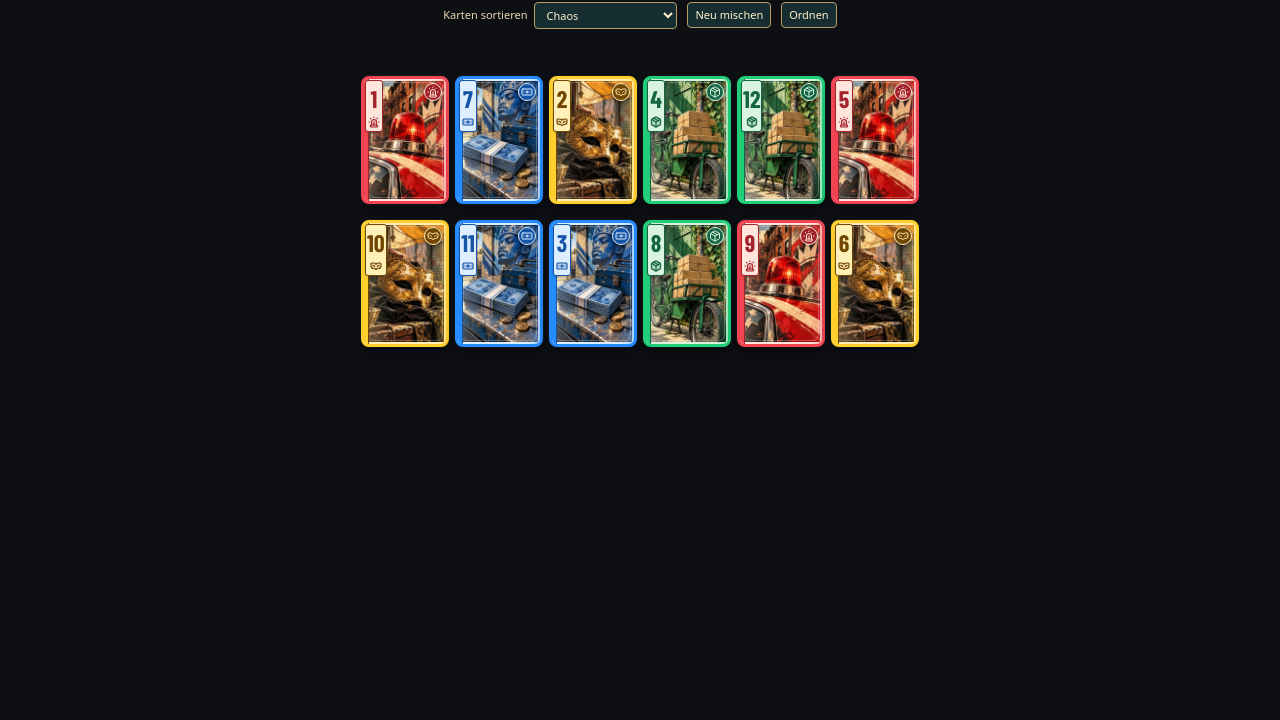
Test: played cards disappear cleanly, incoming cards append, and shuffle clears manual arrangement
What coordinates should you click on to do the following:
click the button with test id "hand-arrange-toggle"
I would click on:
 (809, 15)
Its box is [781,2,837,28].
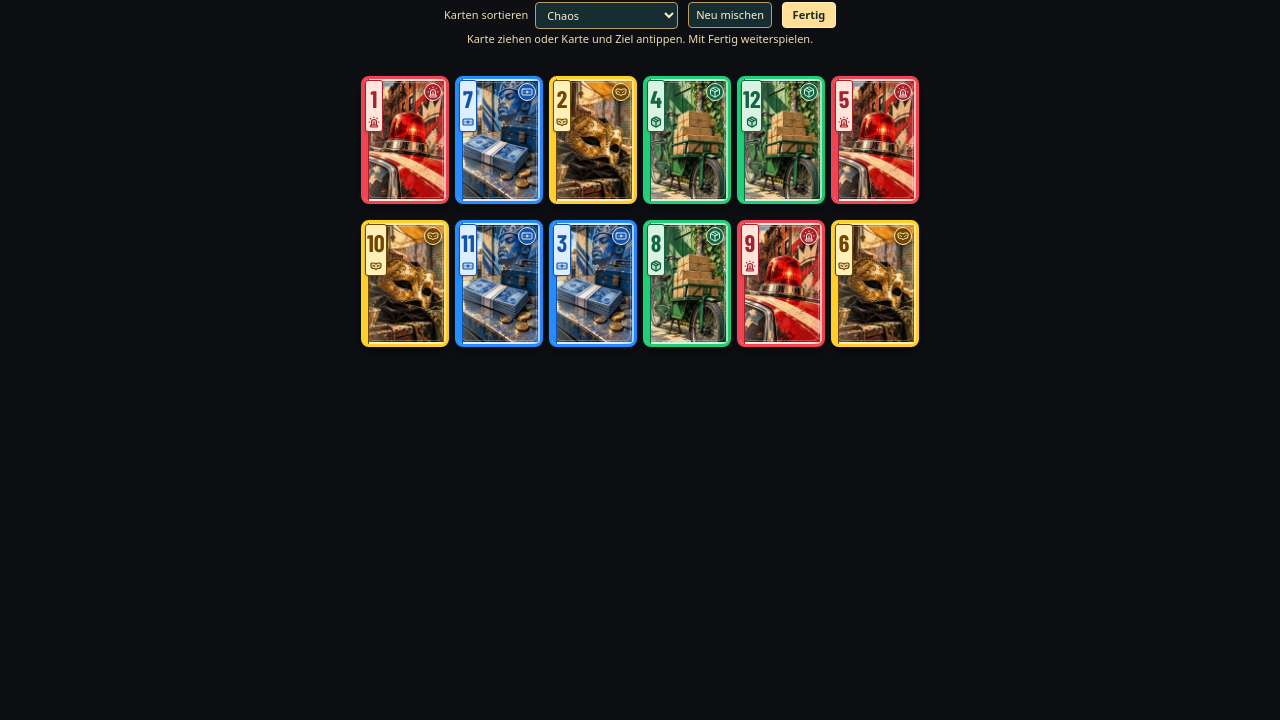
What coordinates should you click on to do the following:
click the button "1"
I would click on:
 (405, 140)
Its box is [361,76,449,204].
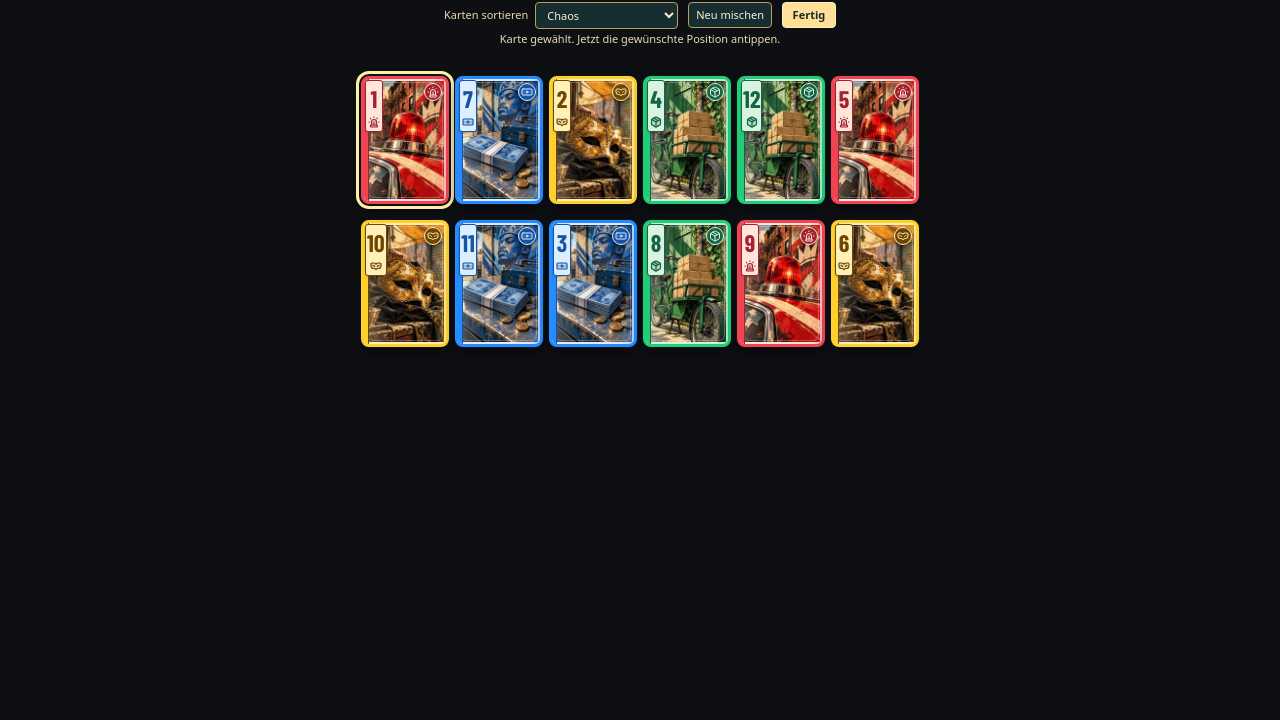
What coordinates should you click on to do the following:
click the button "4"
I would click on:
 (687, 140)
Its box is [643,76,731,204].
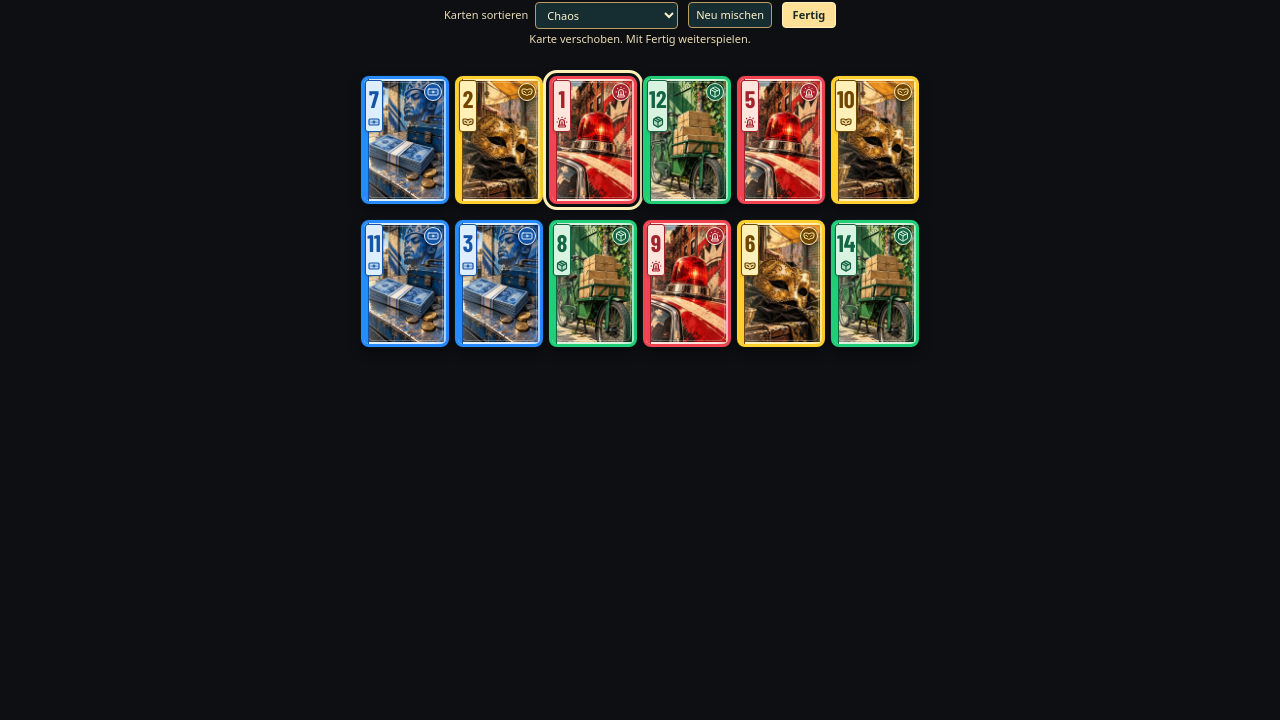
What coordinates should you click on to do the following:
click the button with class "hand-shuffle-button"
I would click on:
 (730, 15)
Its box is [688,2,772,28].
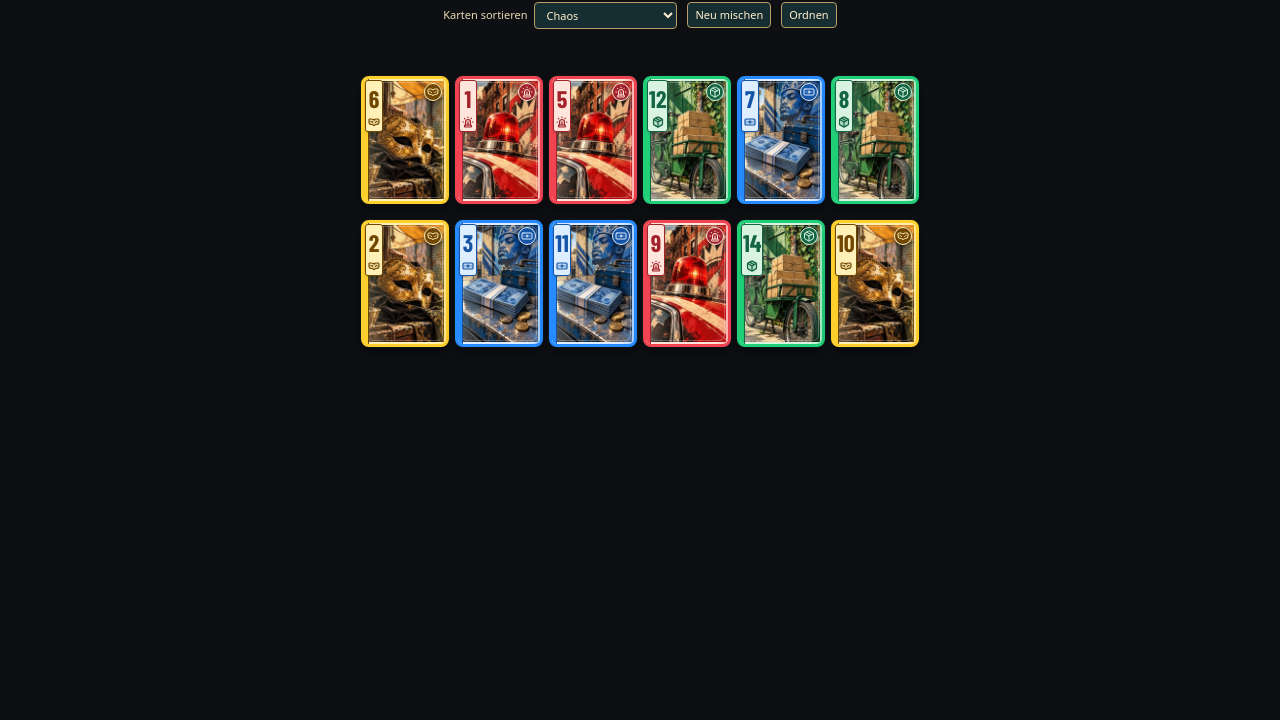
Expected: the button with test id "hand-arrange-toggle" is not pressed, [781,2,837,28]
